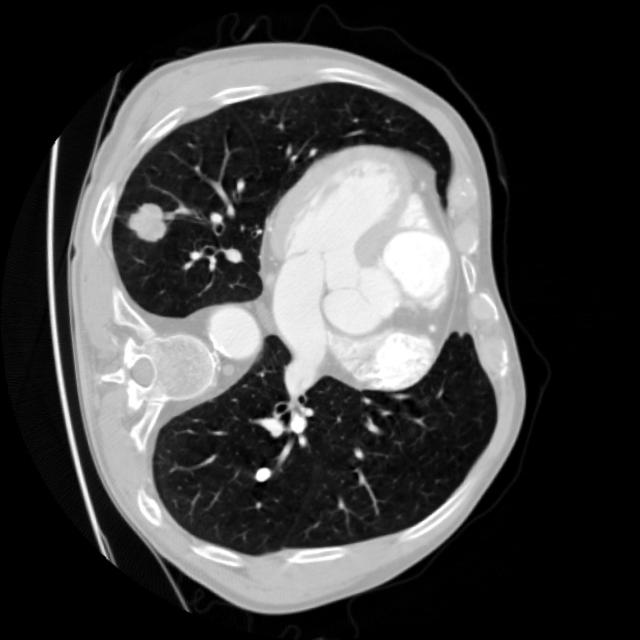nodule: (242, 455, 284, 497)
